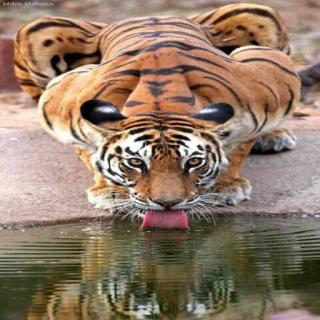Tiger: (11, 0, 308, 234)
